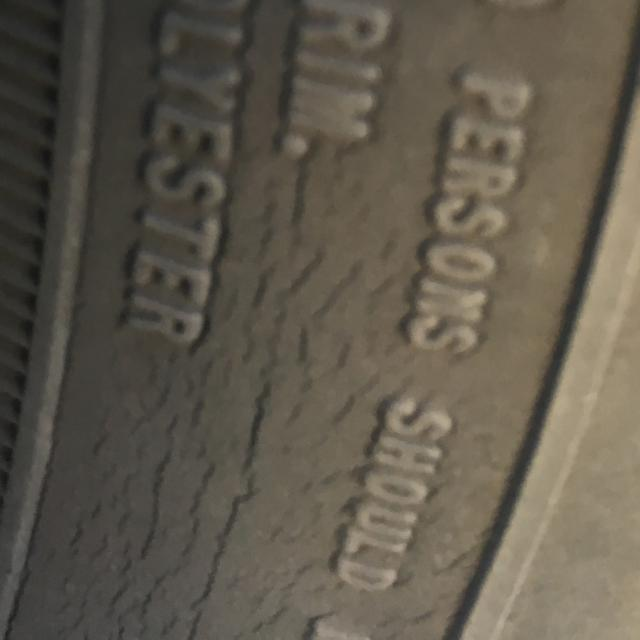Cracks: (1, 59, 565, 640)
